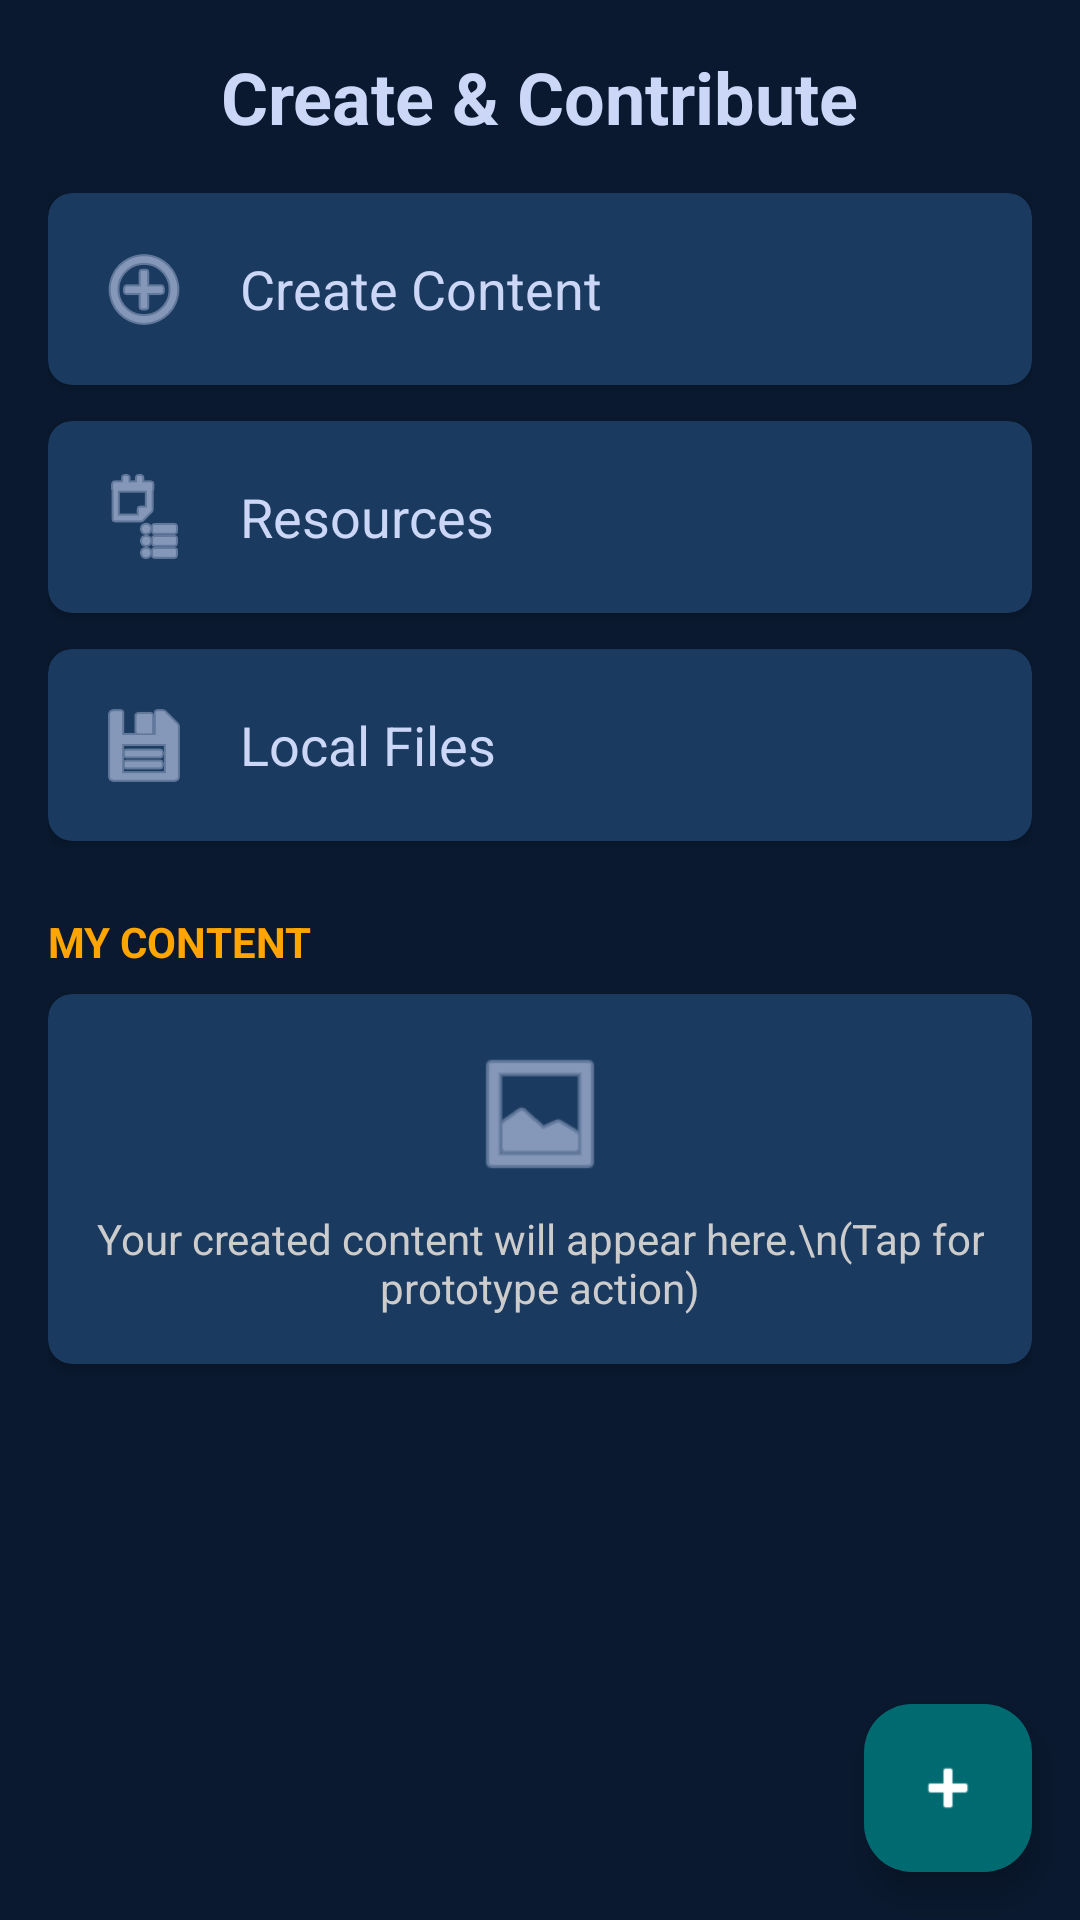

Icon bounding boxes for this 1080x1920 phone screenshot, format [left=x1, top=y1, right=x2, bottom=y2]:
Create or Upload: [left=864, top=1704, right=1032, bottom=1872]
My Content Icon Placeholder: [left=486, top=1060, right=594, bottom=1168]
